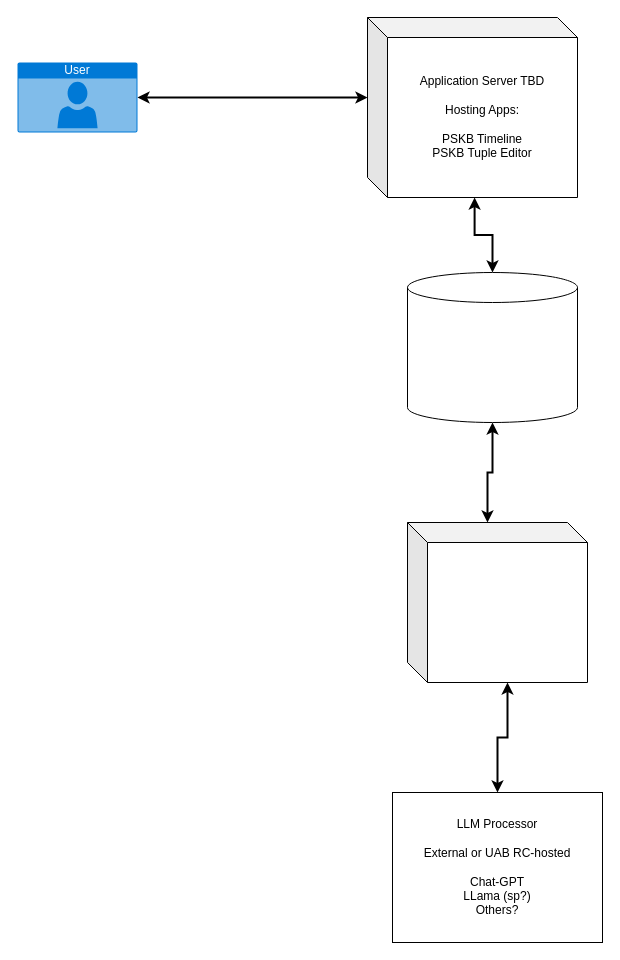
Some shapes in this 620 by 960 pixel diagram are drawn without their labels. The shapes that lost their labels are listed below. From the top down, each one's centre as x and y in pixels, then its label:
pixel 492 347: EDW (in4mp) PATSPECIFIC schema with OMOP tables
pixel 497 602: NLP Processing Server Relation Extraction Note Summarization
